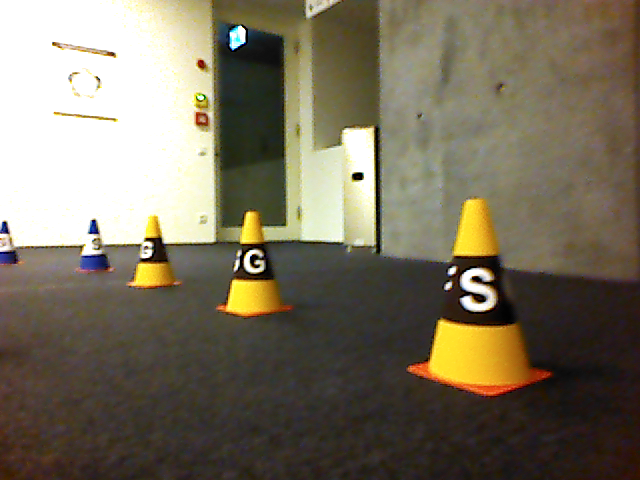yellowcone: (404, 196, 556, 399), (217, 210, 292, 321), (127, 215, 183, 289)
